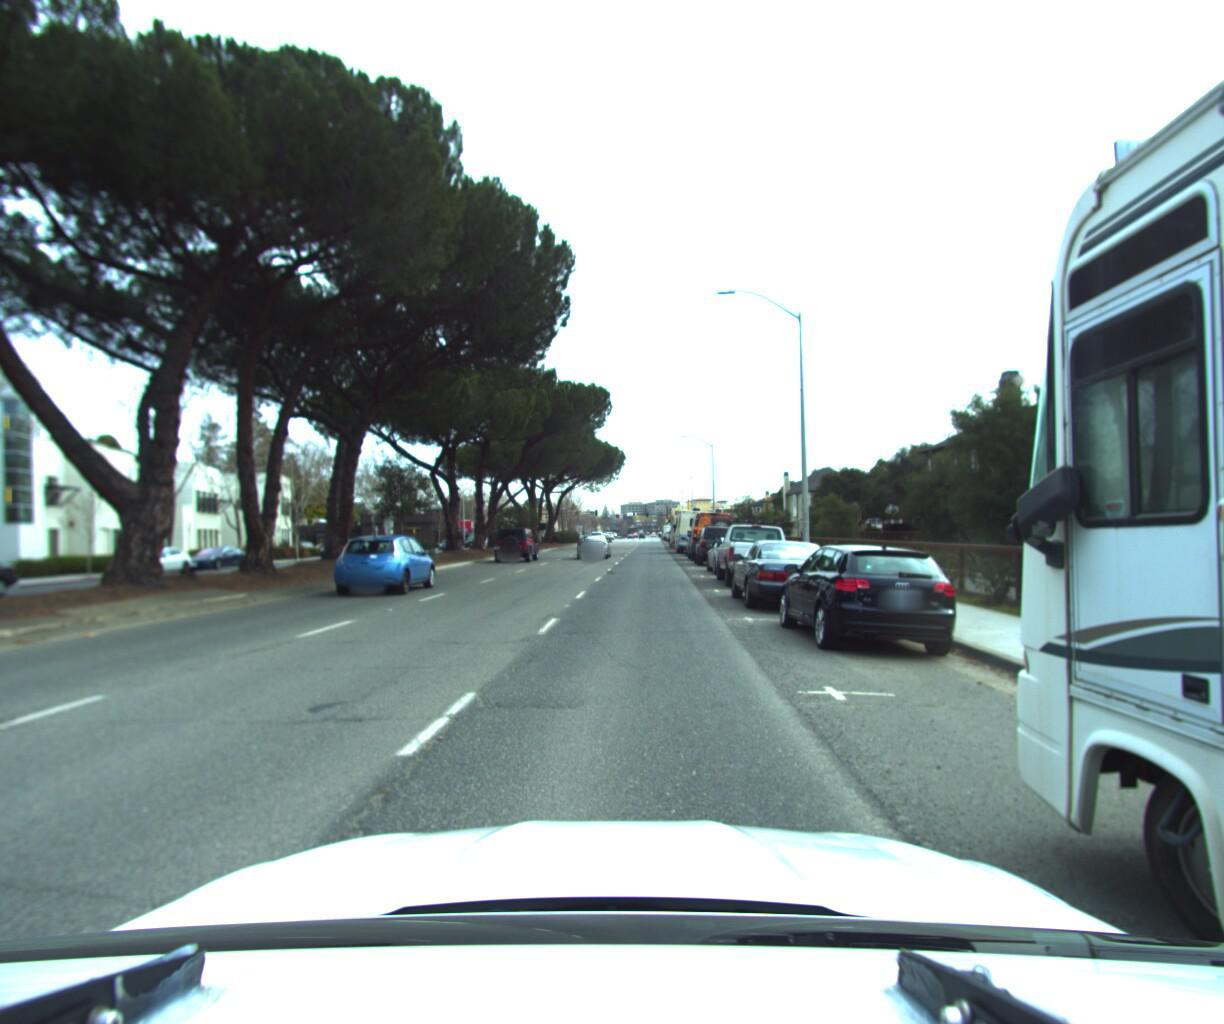car: (769, 534, 971, 662), (721, 531, 846, 617), (332, 530, 442, 599), (715, 510, 803, 590), (117, 545, 202, 580), (706, 532, 767, 575), (0, 548, 32, 625), (688, 508, 734, 560), (693, 520, 743, 565), (183, 543, 256, 573), (491, 524, 539, 562), (572, 528, 608, 557)
other_vehicle: (674, 505, 717, 553)
